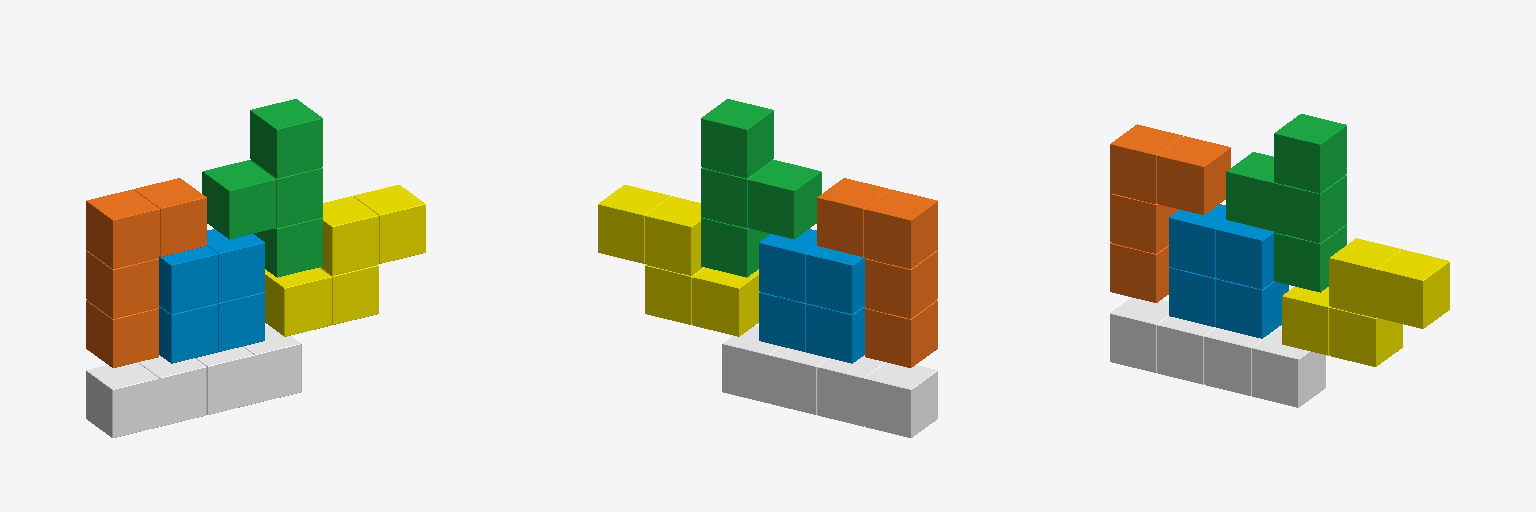
The model's file is BLOCKS.obj.
3 renders of one model, left to right at view 1: azimuth 30°, elevation 25°; view 2: azimuth 150°, elevation 25°; view 3: azimuth 330°, elevation 25°, orthographic.
Visible parts, largest first — view 1: Object.2, Object.1, Object.4, Object.5, Object.3; view 2: Object.2, Object.1, Object.4, Object.5, Object.3; view 3: Object.1, Object.5, Object.2, Object.4, Object.3.
Boxes of the visible parts, box(x1,y1,x2,y2) form: Object.2: box(86, 178, 206, 367); Object.1: box(202, 99, 322, 277); Object.4: box(86, 326, 301, 437); Object.5: box(264, 185, 425, 336); Object.3: box(159, 229, 264, 363); Object.2: box(817, 178, 937, 367); Object.1: box(701, 99, 821, 277); Object.4: box(722, 326, 937, 437); Object.5: box(598, 185, 759, 336); Object.3: box(759, 229, 864, 363); Object.1: box(1226, 114, 1346, 292); Object.5: box(1282, 238, 1449, 366); Object.2: box(1110, 124, 1230, 302); Object.4: box(1110, 297, 1325, 407); Object.3: box(1169, 204, 1288, 338).
Size of the model in its own units: 118 by 96.63 by 17.57.